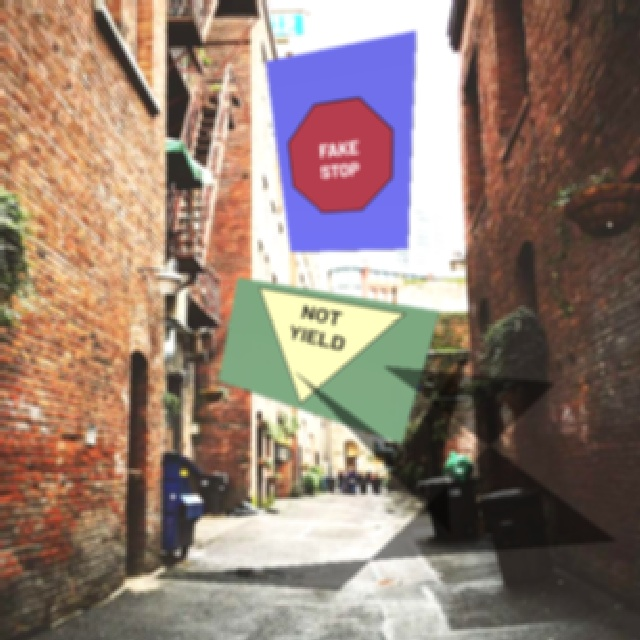FAKE_STOP: (282, 90, 404, 220)
NOT_YIELD: (237, 275, 404, 431)
